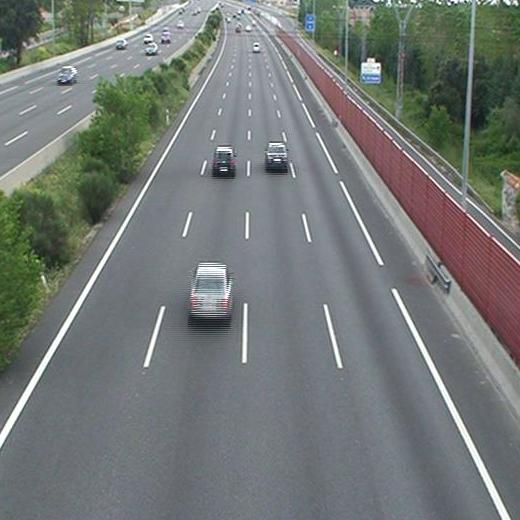car: (189, 264, 231, 317), (212, 147, 235, 172), (266, 142, 287, 168), (252, 42, 260, 51)
